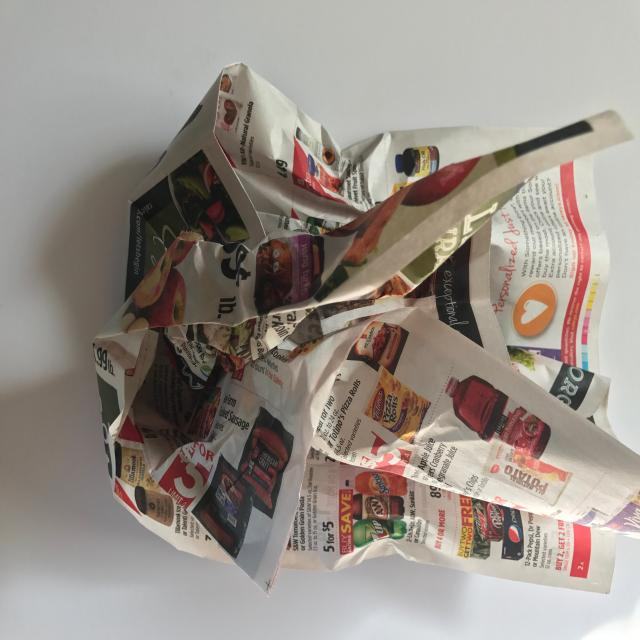paper: (92, 62, 638, 597)
